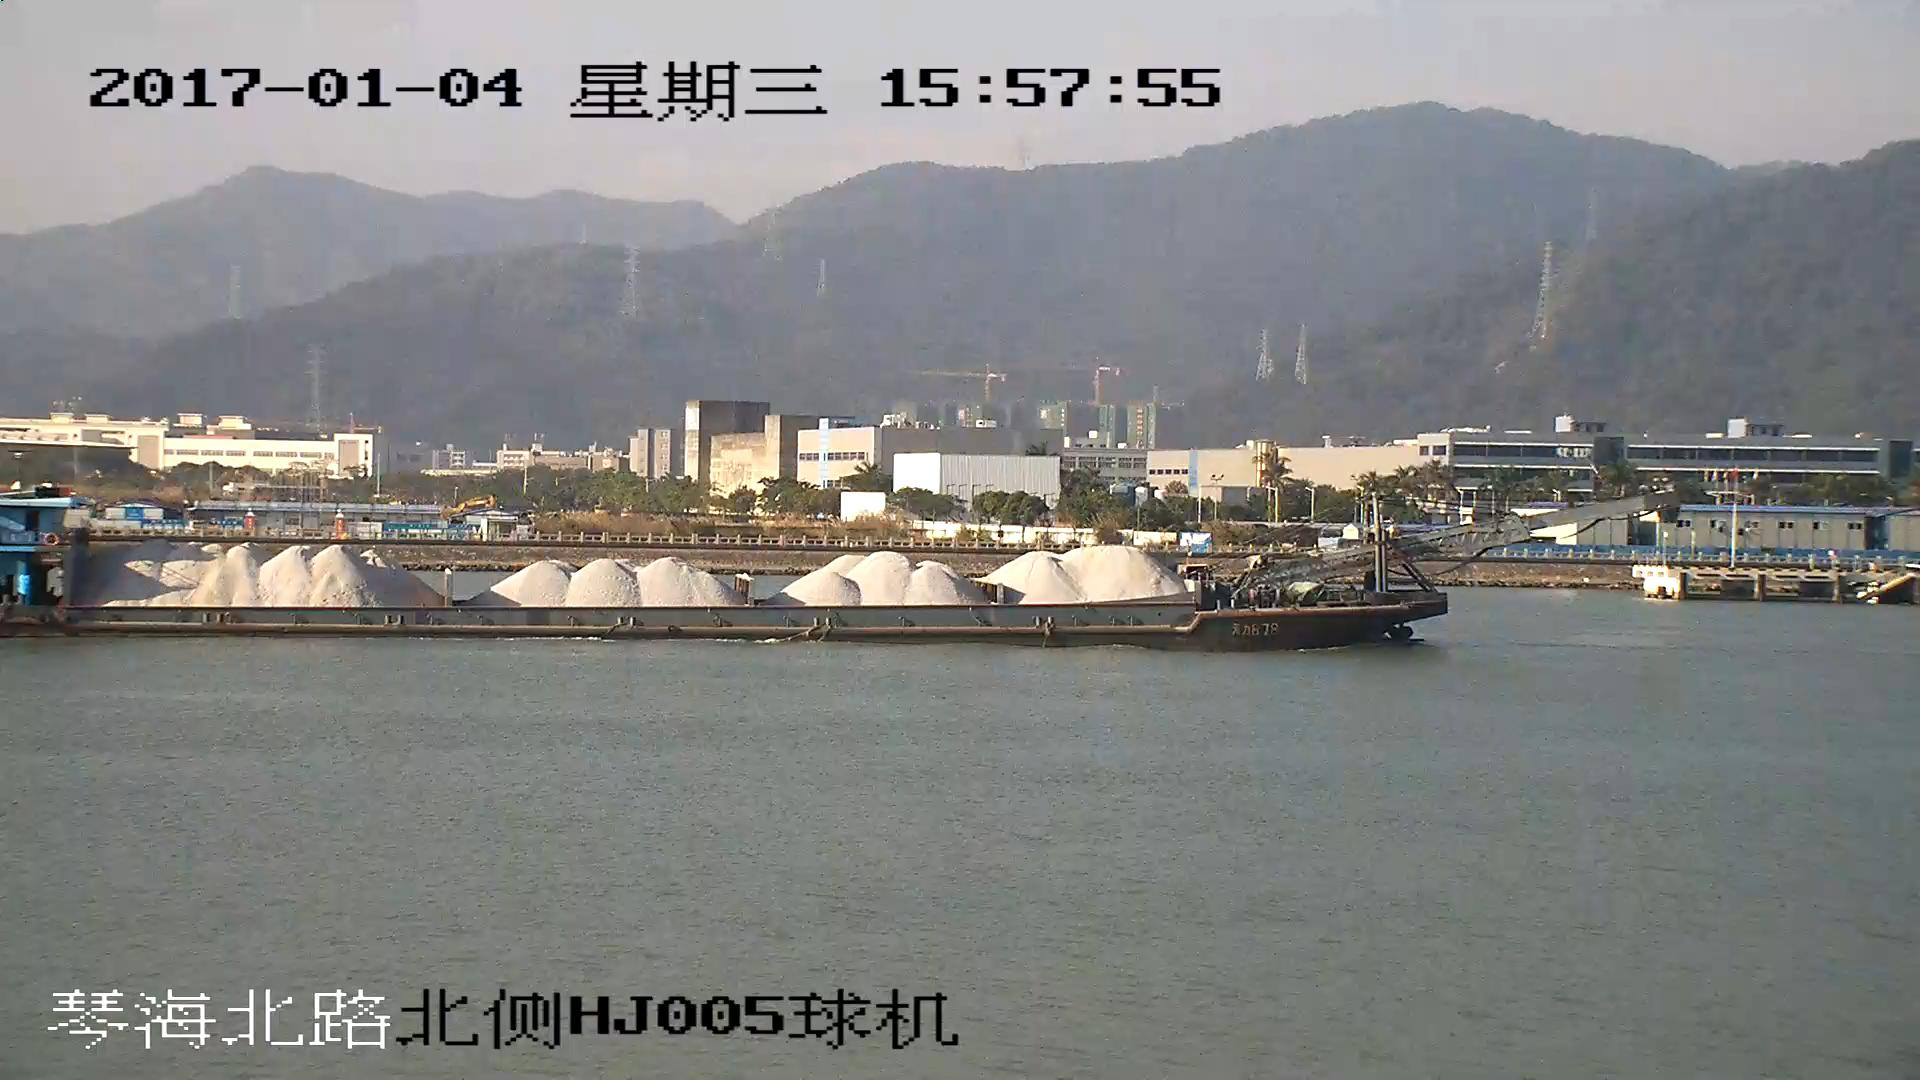ore carrier: (1, 488, 1667, 648)
